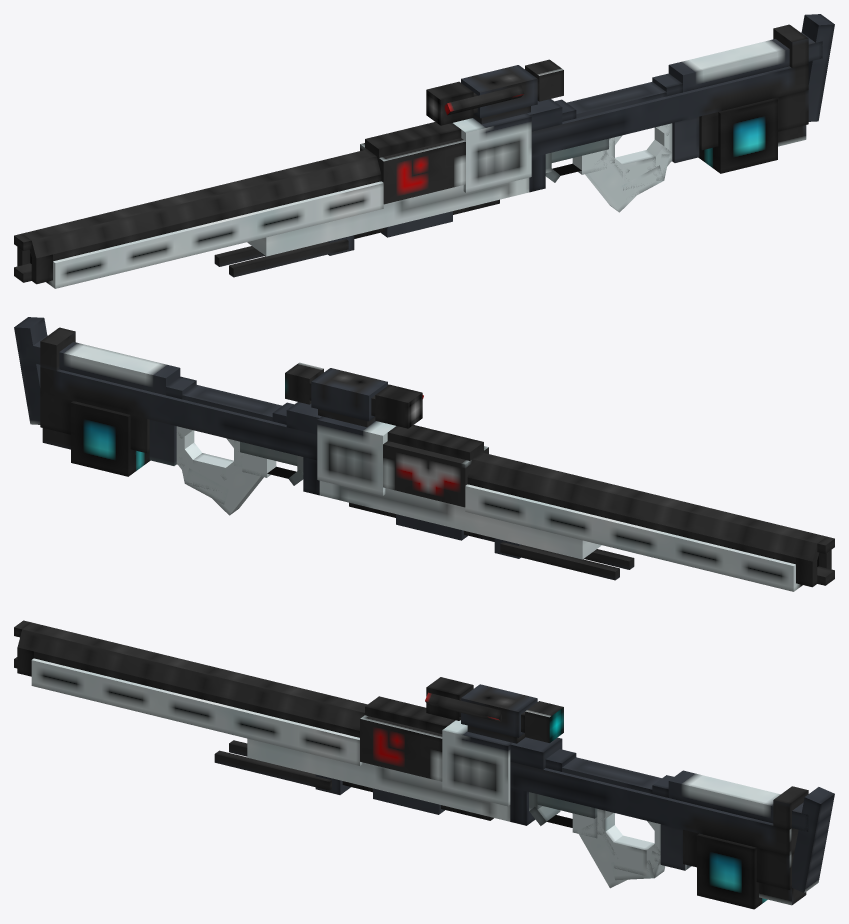
Rendered from gaussrifle.obj.
The picture shows the model from 3 angles, top to bottom: view 1: azimuth 30°, elevation 25°; view 2: azimuth 150°, elevation 25°; view 3: azimuth 330°, elevation 25°; orthographic projection.
Parts seen in each view (by area): view 1: Barrel1, Stock9, Barrel2, Bottom4, Center1, Center2, Mag1, Stock6, Barrel4, Barrel5, Scope2, Center3 (+19 smaller); view 2: Barrel1, Stock9, Barrel3, Bottom4, Center1, Center2, Mag1, Stock6, Barrel4, Scope2, Barrel5, Center3 (+18 smaller); view 3: Barrel1, Stock9, Barrel2, Bottom4, Center1, Center2, Mag1, Stock6, Barrel4, Stock8, Barrel5, Scope2 (+16 smaller).
Boxes of the visible parts, bbox=[...] form: Barrel1: bbox=[46, 181, 383, 288]; Stock9: bbox=[531, 64, 808, 157]; Barrel2: bbox=[30, 156, 380, 259]; Bottom4: bbox=[247, 177, 529, 256]; Center1: bbox=[453, 113, 531, 192]; Center2: bbox=[360, 138, 465, 204]; Mag1: bbox=[698, 98, 777, 173]; Stock6: bbox=[668, 32, 822, 92]; Barrel4: bbox=[22, 149, 376, 240]; Barrel5: bbox=[53, 174, 381, 261]; Scope2: bbox=[461, 65, 537, 118]; Center3: bbox=[365, 122, 461, 157]; Barrel1: bbox=[465, 484, 802, 591]; Stock9: bbox=[40, 367, 317, 460]; Barrel3: bbox=[468, 459, 818, 562]; Bottom4: bbox=[319, 480, 601, 559]; Center1: bbox=[317, 416, 395, 495]; Center2: bbox=[383, 441, 488, 507]; Mag1: bbox=[71, 401, 150, 476]; Stock6: bbox=[26, 335, 180, 395]; Barrel4: bbox=[472, 452, 826, 543]; Scope2: bbox=[311, 368, 387, 421]; Barrel5: bbox=[467, 477, 795, 564]; Center3: bbox=[387, 425, 483, 460]; Barrel1: bbox=[31, 658, 362, 765]; Stock9: bbox=[510, 762, 798, 855]; Barrel2: bbox=[17, 629, 364, 730]; Bottom4: bbox=[247, 738, 510, 821]; Center1: bbox=[442, 720, 512, 806]; Center2: bbox=[360, 715, 442, 781]; Mag1: bbox=[697, 833, 767, 909]; Stock6: bbox=[668, 770, 808, 831]; Barrel4: bbox=[22, 622, 367, 712]; Stock8: bbox=[792, 787, 834, 892]; Barrel5: bbox=[34, 651, 359, 737]; Scope2: bbox=[461, 684, 537, 737].
Bounding box in the file's own units: 6.16 × 1.15 × 0.3254.
